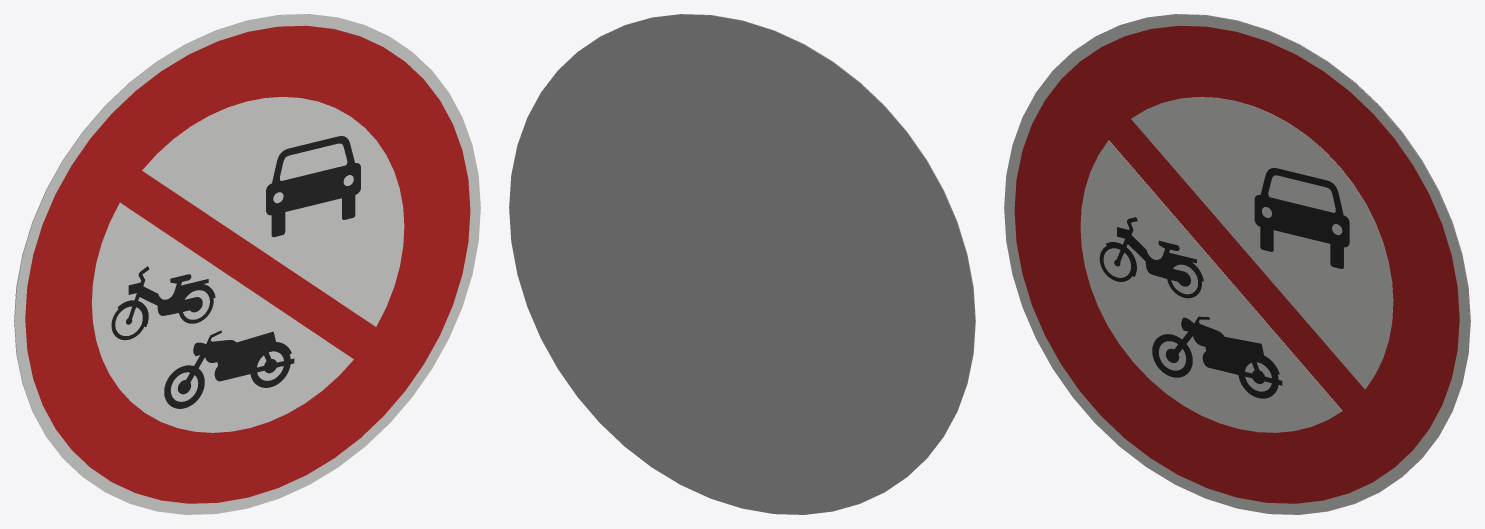
3 renders of one model, left to right at view 1: azimuth 30°, elevation 25°; view 2: azimuth 150°, elevation 25°; view 3: azimuth 330°, elevation 25°, orthographic.
Visible parts, largest first — view 1: B7b_p01, B7b_p02, B7b_p03, B7b_p00, B7b_p04, B7b_p06, B7b_p05, B7b_dos; view 2: B7b_dos, B7b_p00; view 3: B7b_p01, B7b_p02, B7b_p03, B7b_p00, B7b_p04, B7b_p06, B7b_p05, B7b_dos.
Part boxes in pixels (x1,y1,x2,y2): B7b_p01: (25, 25, 470, 503); B7b_p02: (142, 97, 404, 326); B7b_p03: (91, 202, 353, 432); B7b_p00: (14, 14, 480, 514); B7b_p04: (266, 136, 360, 237); B7b_p06: (164, 330, 294, 408); B7b_p05: (111, 266, 215, 340); B7b_dos: (14, 14, 385, 473); B7b_dos: (509, 14, 975, 514); B7b_p00: (604, 14, 975, 473); B7b_p01: (1014, 25, 1459, 503); B7b_p02: (1131, 97, 1393, 389); B7b_p03: (1080, 140, 1342, 432); B7b_p00: (1004, 14, 1470, 514); B7b_p04: (1254, 168, 1349, 268); B7b_p06: (1152, 316, 1282, 398); B7b_p05: (1099, 217, 1203, 298); B7b_dos: (1099, 14, 1470, 473).
Bounding box in the file's own units: 0.85 × 0.8498 × 0.0043.
